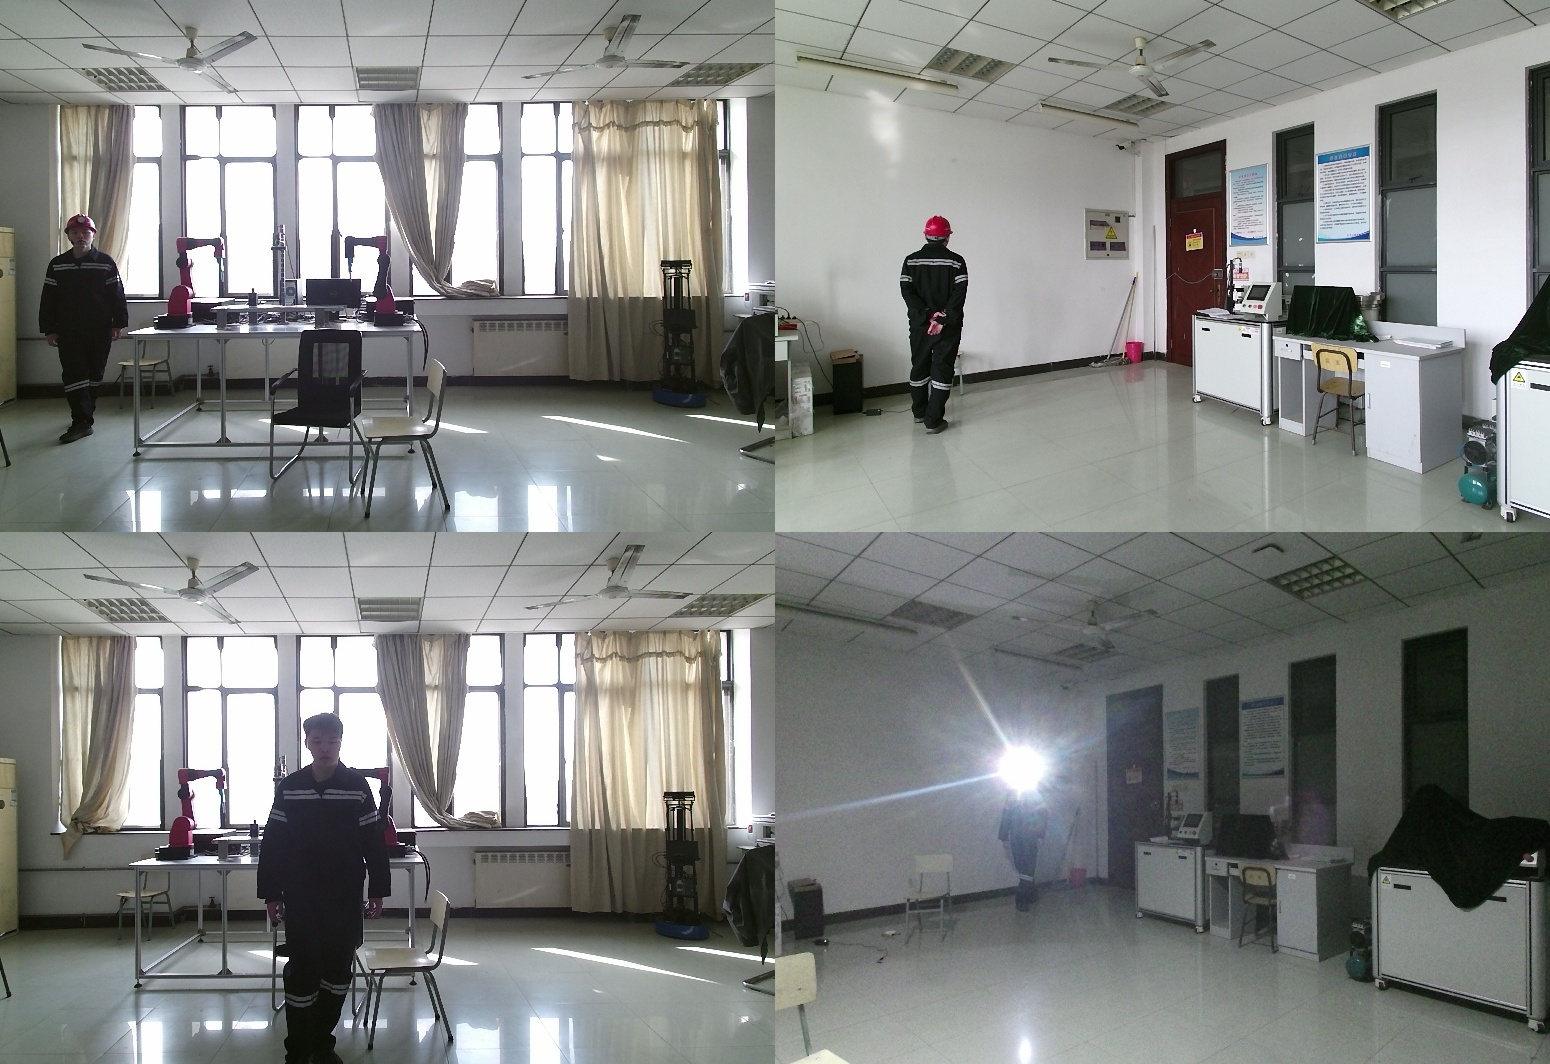person: (262, 712, 399, 1064), (37, 216, 129, 443), (895, 216, 981, 438), (999, 765, 1053, 914)
